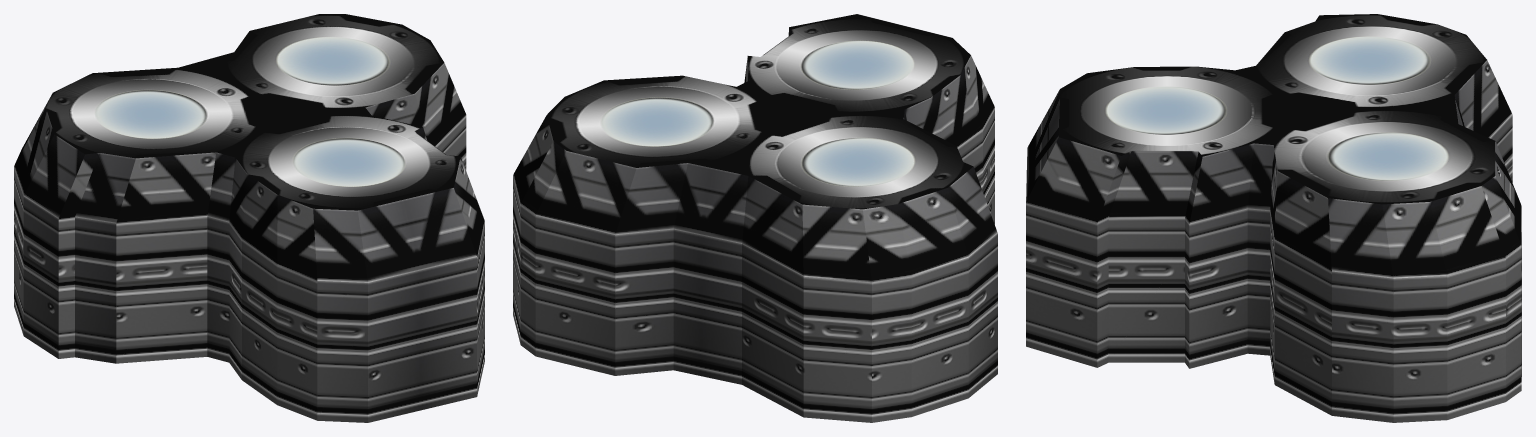
Rendered from light_2.FBX.
3 views of the same model, side by side, from view 1: azimuth 30°, elevation 25°; view 2: azimuth 150°, elevation 25°; view 3: azimuth 270°, elevation 25° (orthographic). The views are drawn at different scales.
Parts seen in each view (by area): view 1: light_2; view 2: light_2; view 3: light_2.
Part boxes in pixels (<box>): light_2: <box>14,14,484,422</box>; light_2: <box>513,14,997,422</box>; light_2: <box>1026,14,1521,422</box>.
Bounding box in the file's own units: 32.65 × 14.48 × 31.65.
1 material, 1 textured.
